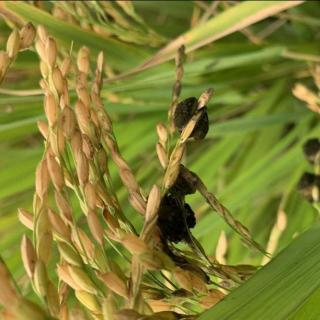Gosong-Palsu: (156, 175, 198, 244), (172, 96, 210, 142)
